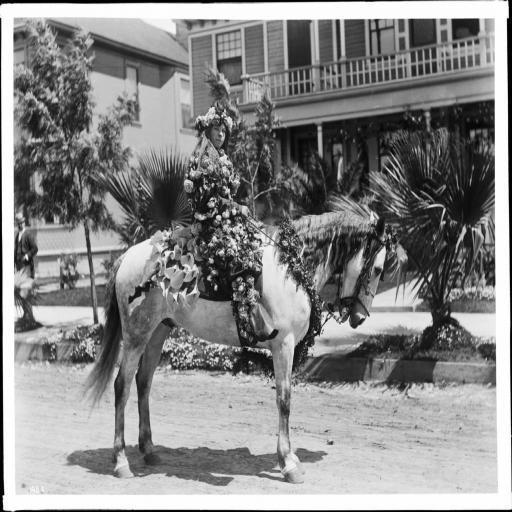horse: (72, 212, 385, 484)
